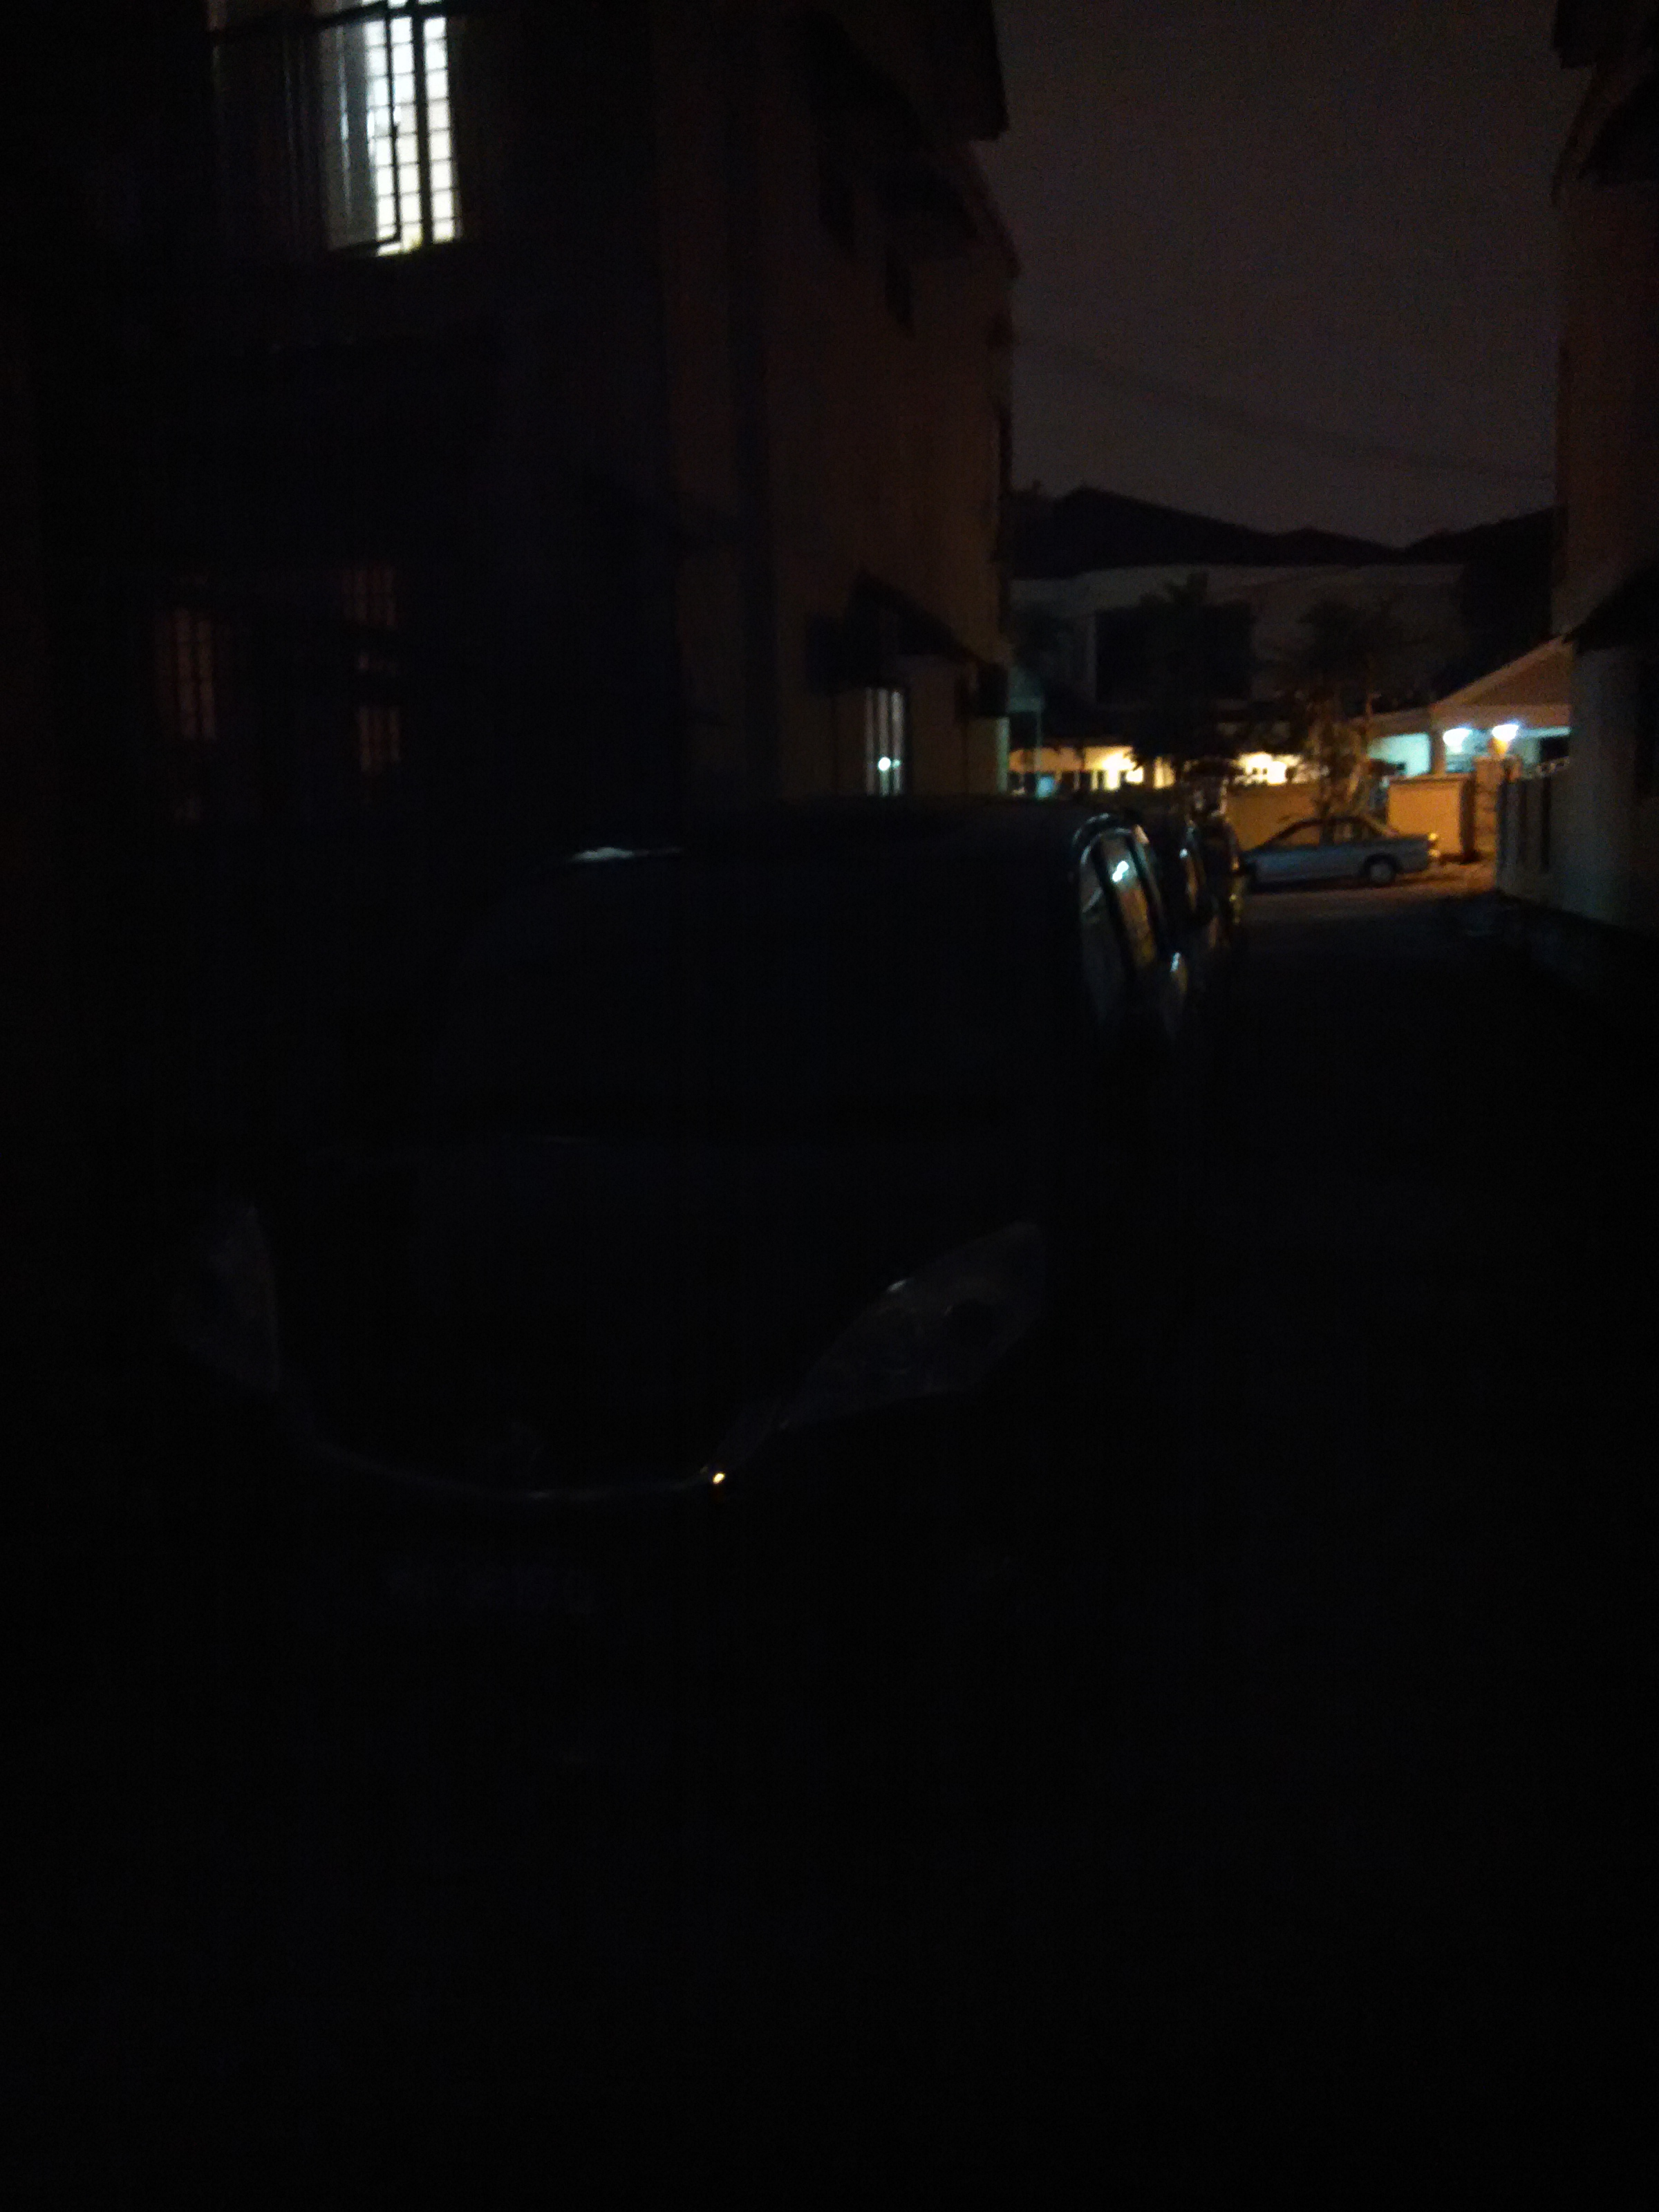car: (1216, 794, 1448, 906)
